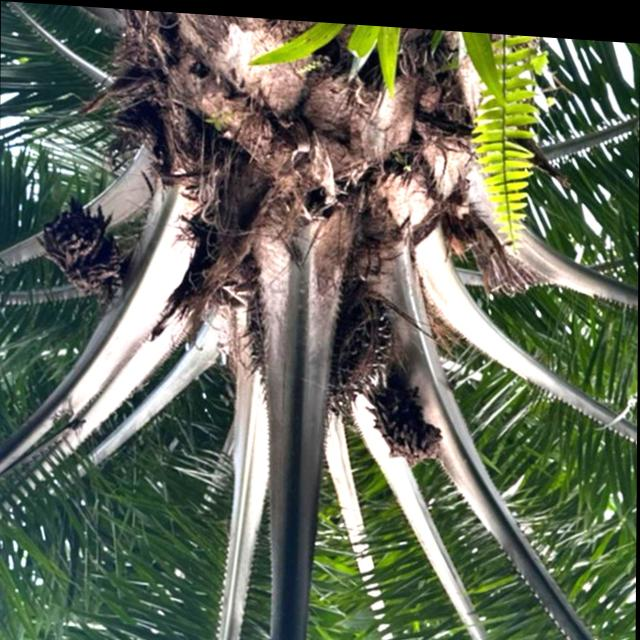almost: (246, 257, 399, 415)
